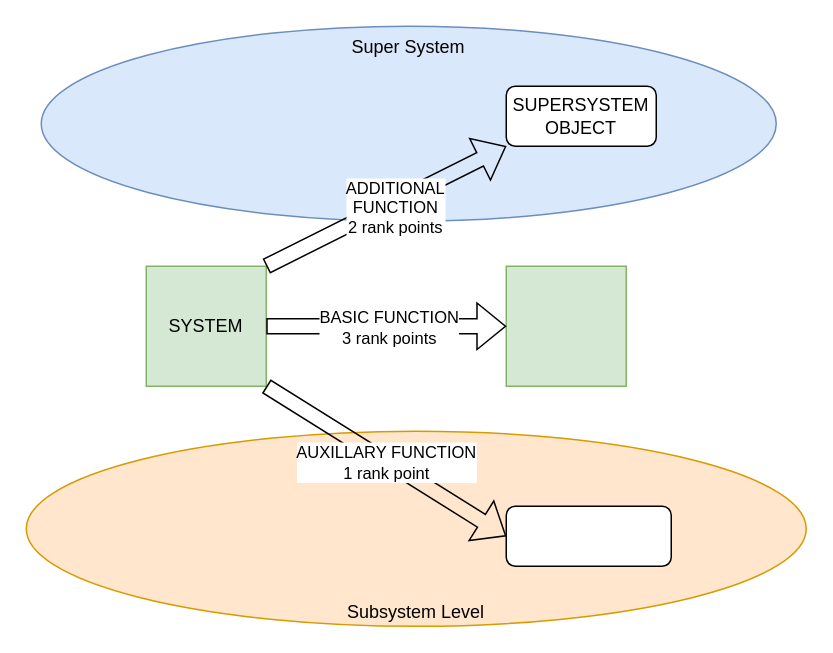
Some shapes in this 833 by 653 pixel diagram are drawn without their labels. The centre of each missing label's shape, as x and y in pixels:
OBJECT: (x=565, y=325)
SUBSYSTEM OBJECT: (x=588, y=535)
